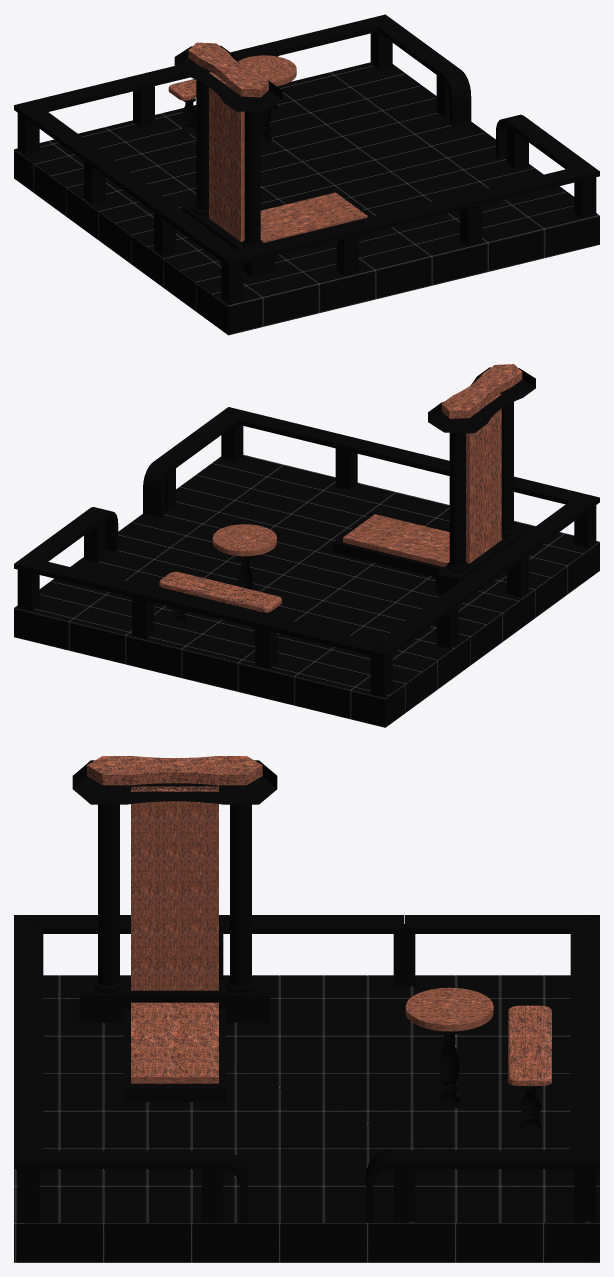
3 views of the same model, one above another, from view 1: azimuth 30°, elevation 25°; view 2: azimuth 150°, elevation 25°; view 3: azimuth 270°, elevation 25° (orthographic). The views are drawn at different scales.
Parts seen in each view (by area): view 1: Cube_0, Cube.029_34, Cube.033_38, Cylinder.002_42, BezierCurve_40, BezierCurve.004_41, Cube.006_6, Cube.004_4, Cube.009_9, Cube.016_12, Cube.012_15, Cylinder.001_39 (+23 smaller); view 2: Cube_0, Cube.029_34, Cube.033_38, Cylinder.001_39, Cube.027_31, BezierCurve_40, Cube.015_13, BezierCurve.004_41, Cube.016_12, Cube.012_15, Cube.004_4, Cylinder.002_42 (+22 smaller); view 3: Cube_0, Cube.029_34, Cube.033_38, BezierCurve_40, Cube.028_33, BezierCurve.004_41, Cylinder.001_39, Cylinder.002_42, Cube.019_17, Cube.020_19, Cube.027_31, Cube.022_23 (+19 smaller).
Part boxes in pixels (x1,y1,x2,y2): Cube_0: (14,62,599,335); Cube.029_34: (209,72,244,241); Cube.033_38: (260,192,367,242); Cylinder.002_42: (242,111,263,247); BezierCurve_40: (188,42,268,97); BezierCurve.004_41: (174,45,282,111); Cube.006_6: (342,193,476,236); Cube.004_4: (466,168,599,206); Cube.009_9: (229,224,352,266); Cube.016_12: (262,14,385,56); Cube.012_15: (14,75,148,111); Cylinder.001_39: (194,80,208,215); Cube_0: (14,455,599,727); Cube.029_34: (466,394,501,563); Cube.033_38: (343,514,449,566); Cylinder.001_39: (447,433,468,572); Cube.027_31: (159,571,281,612); BezierCurve_40: (441,364,522,418); Cube.015_13: (137,586,271,628); BezierCurve.004_41: (428,367,535,433); Cube.016_12: (14,560,147,598); Cube.012_15: (261,616,384,658); Cube.004_4: (229,407,351,449); Cylinder.002_42: (501,402,516,537); Cube_0: (14,975,599,1262); Cube.029_34: (131,786,218,990); Cube.033_38: (131,1002,218,1083); BezierCurve_40: (87,756,262,785); Cube.028_33: (79,980,270,1022); BezierCurve.004_41: (72,760,277,804); Cylinder.001_39: (226,804,255,993); Cylinder.002_42: (94,804,123,993); Cube.019_17: (14,1150,208,1169); Cube.020_19: (405,1150,599,1169); Cube.027_31: (508,1005,551,1085); Cube.022_23: (405,915,599,933).
Bounding box in the file's own units: 8 × 4.36 × 8.
Materials: 4 (2 with a texture image).
